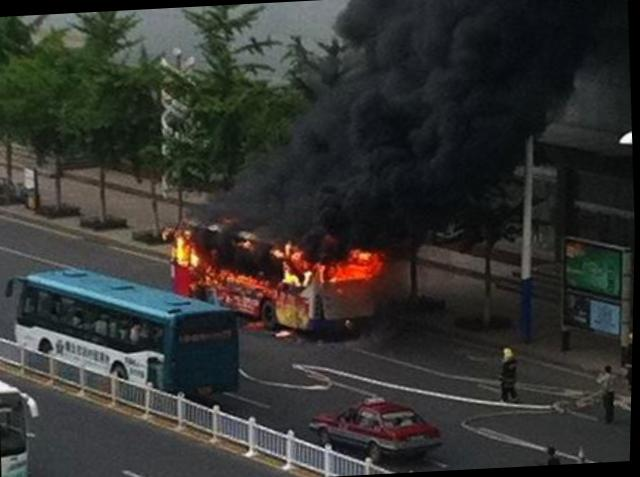fire: (168, 201, 386, 296)
